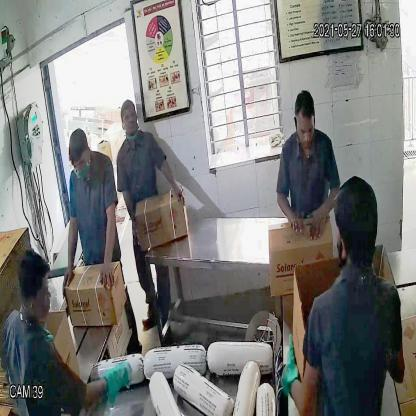no_goggles: (291, 117, 317, 140), (119, 108, 140, 125)
